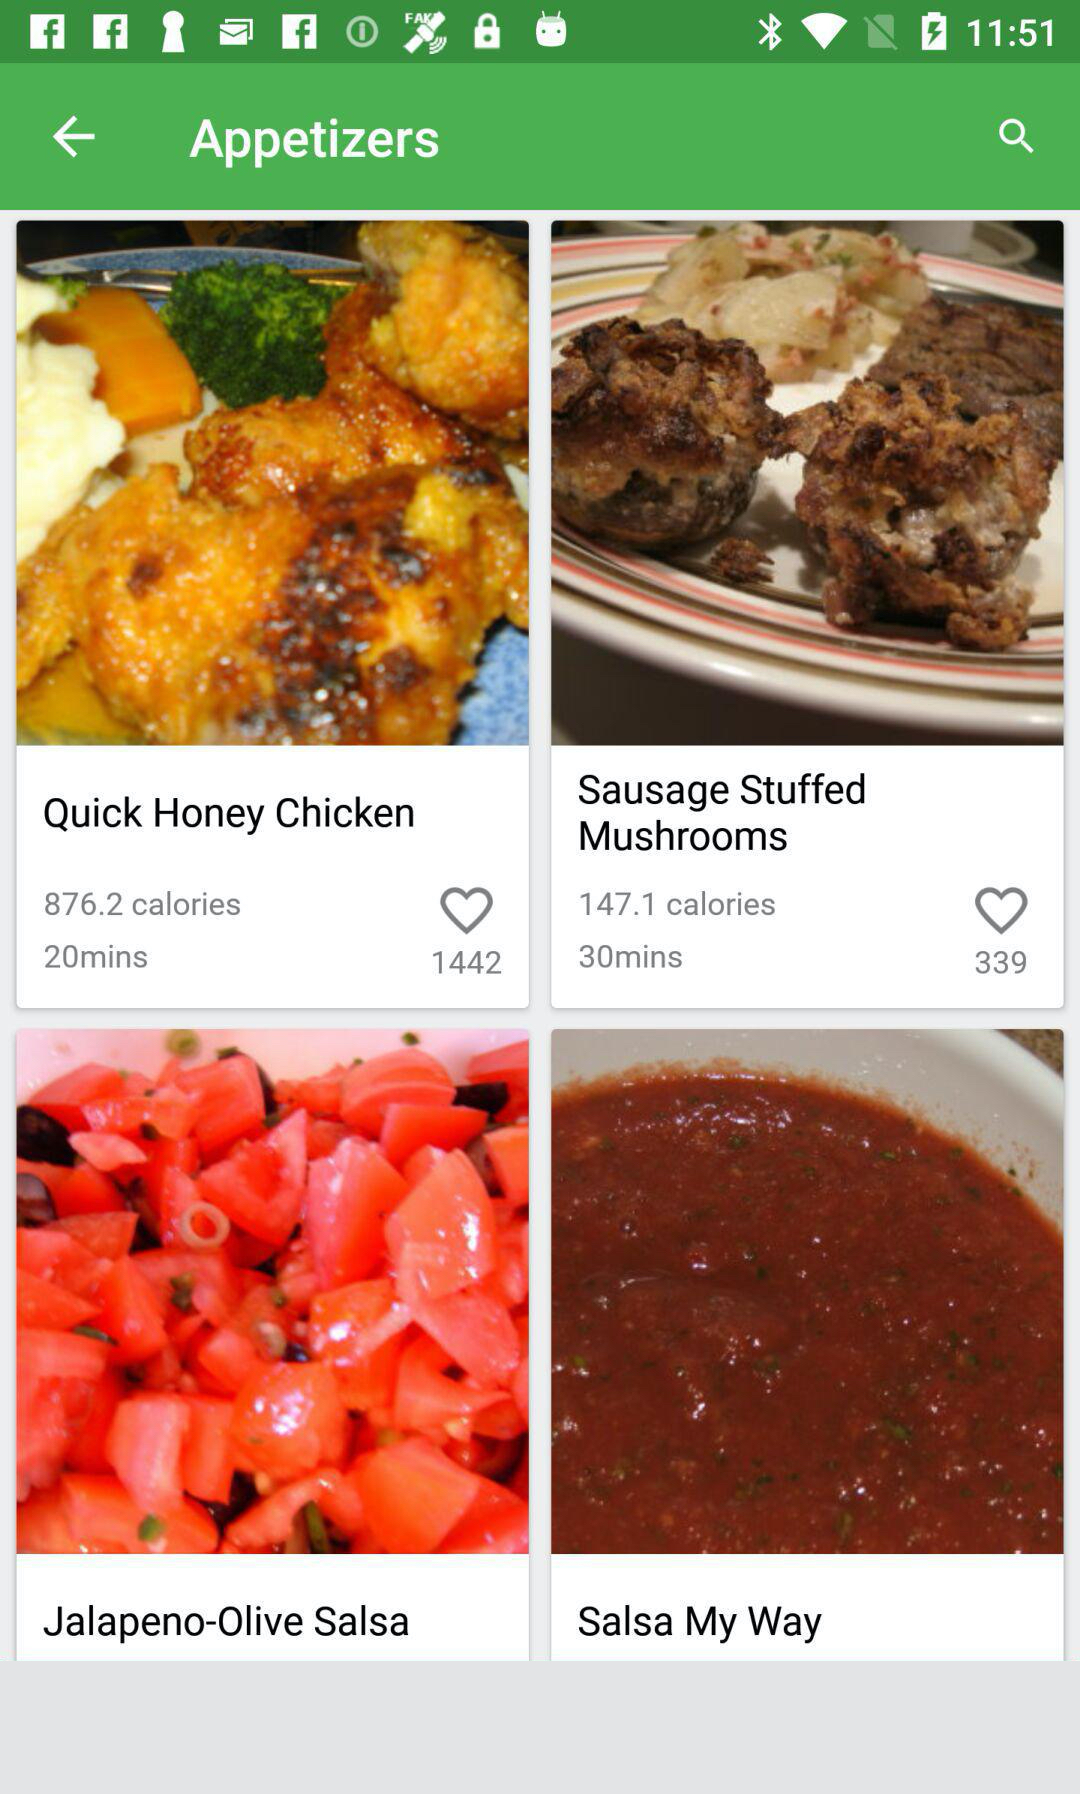Icon: (439, 885, 495, 935), (975, 885, 1029, 935), (51, 117, 97, 159), (997, 119, 1035, 156)
Image: (15, 220, 530, 746), (551, 220, 1065, 746), (551, 1028, 1063, 1554), (19, 1028, 530, 1554)
Text: (578, 771, 866, 852), (44, 794, 415, 835), (44, 1604, 410, 1644), (190, 118, 439, 170), (578, 1603, 824, 1645), (45, 891, 242, 918), (580, 889, 776, 916), (46, 943, 149, 969), (579, 944, 683, 969), (433, 950, 503, 976), (974, 950, 1027, 975)
Toolbar: (1, 64, 1080, 211)
UpperTaskBar: (1, 1, 1080, 64)
